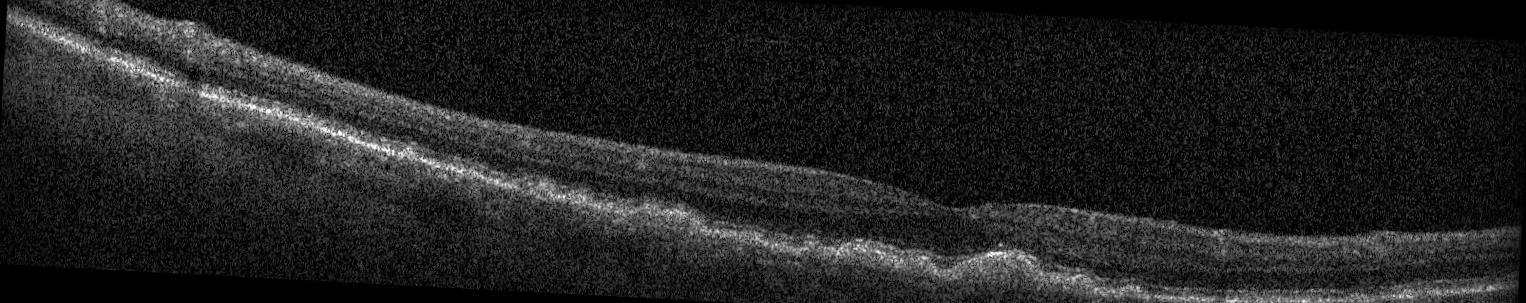retinal_drusen: (944, 252, 1044, 286), (628, 208, 705, 229), (835, 246, 895, 268), (514, 176, 549, 199), (896, 258, 934, 275), (1065, 276, 1093, 294), (558, 194, 587, 209), (595, 203, 624, 218), (737, 231, 766, 245), (805, 248, 833, 259), (1345, 293, 1370, 303), (1239, 293, 1262, 303), (1122, 289, 1141, 298), (400, 148, 414, 159), (460, 170, 479, 178), (1106, 288, 1117, 295)
